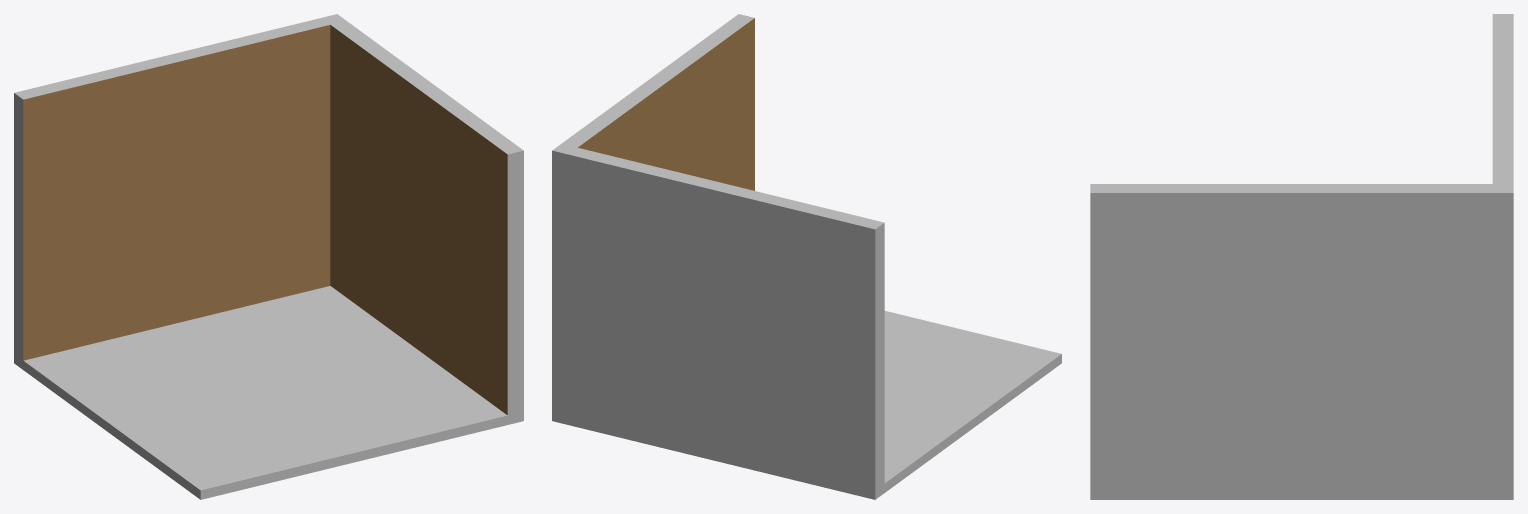
The model's file is Wall_3.fbx.
3 renders of one model, left to right at view 1: azimuth 30°, elevation 25°; view 2: azimuth 150°, elevation 25°; view 3: azimuth 270°, elevation 25°, orthographic. The views are drawn at different scales.
Parts seen in each view (by area): view 1: Wall_3; view 2: Wall_3; view 3: Wall_3.
Part boxes in pixels (box(x1,y1,x2,y2)): Wall_3: box(14, 14, 523, 499); Wall_3: box(552, 14, 1061, 499); Wall_3: box(1090, 14, 1513, 499).
Size of the model in its own units: 3.8 by 3.04 by 3.8.
